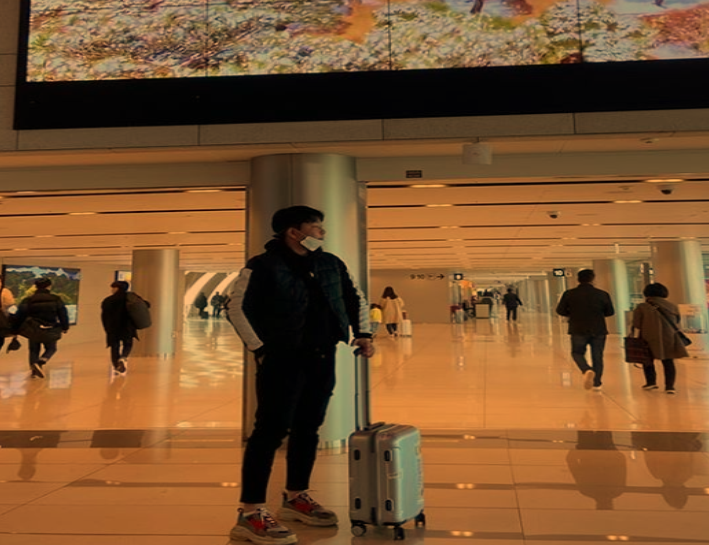mask_weared_incorrect: (274, 203, 330, 256)
